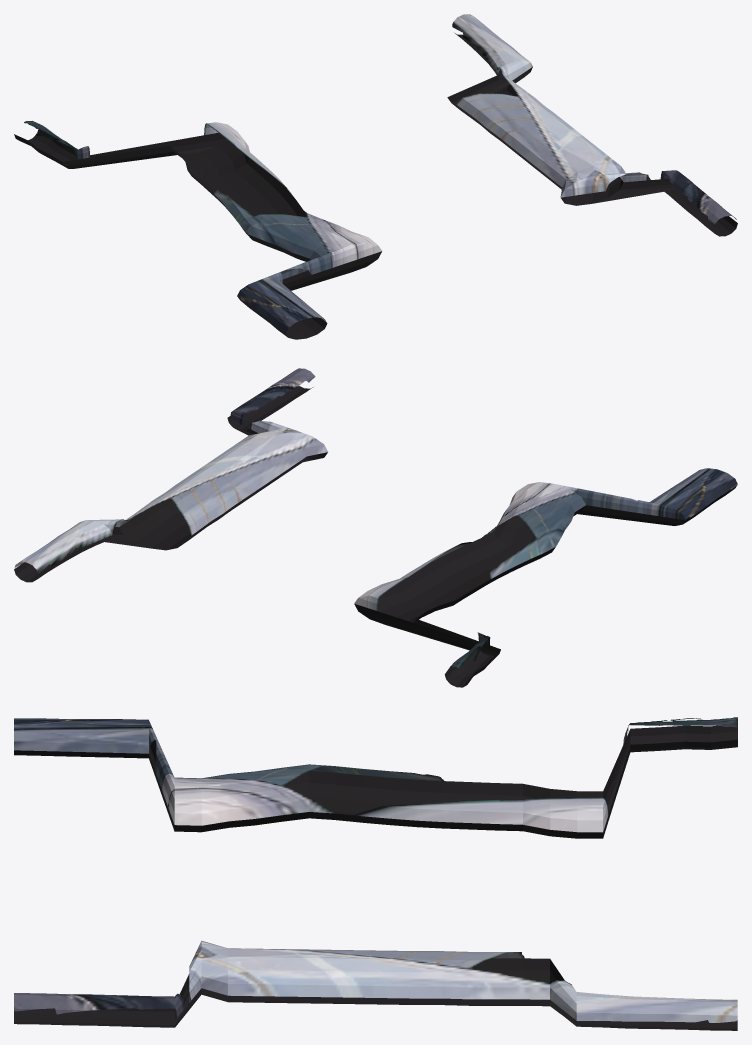
The model's file is yuna_semantic_layer_v9_leg.obj.
3 views of the same model, one above another, from view 1: azimuth 30°, elevation 25°; view 2: azimuth 150°, elevation 25°; view 3: azimuth 270°, elevation 25° (orthographic). The views are drawn at different scales.
Visible parts, largest first — view 1: leg_L_retopo_proxy_candidate, leg_R_retopo_proxy_candidate; view 2: leg_L_retopo_proxy_candidate, leg_R_retopo_proxy_candidate; view 3: leg_L_retopo_proxy_candidate, leg_R_retopo_proxy_candidate.
Boxes of the visible parts, box(x1,y1,x2,y2) form: leg_L_retopo_proxy_candidate: box(14, 121, 382, 339); leg_R_retopo_proxy_candidate: box(447, 14, 737, 236); leg_L_retopo_proxy_candidate: box(354, 468, 737, 687); leg_R_retopo_proxy_candidate: box(14, 368, 327, 582); leg_L_retopo_proxy_candidate: box(14, 717, 737, 838); leg_R_retopo_proxy_candidate: box(14, 940, 737, 1030).
Size of the model in its own units: 1.68 by 0.0966 by 1.72.
